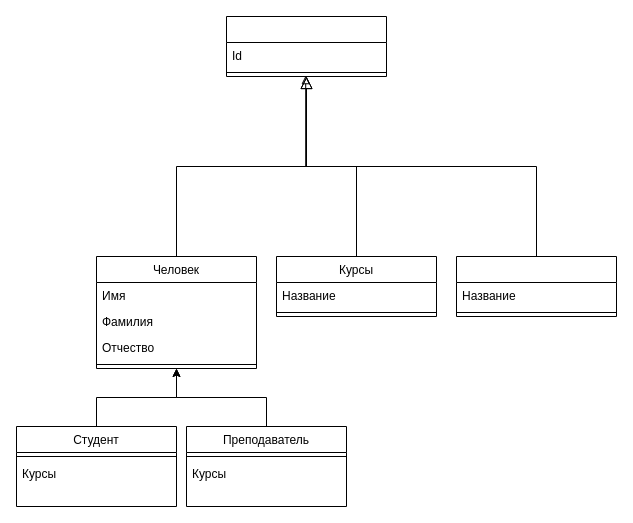
Some shapes in this 633 by 523 pixel diagram are drawn without their labels. Here are the shapes that lost their labels. From the top down, the box of each, then its label:
(226, 16, 386, 76): Сущность
(456, 256, 616, 316): Группа
